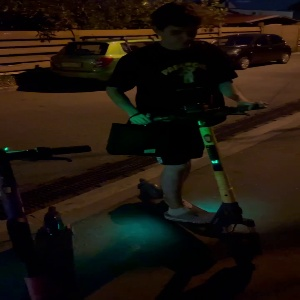human on a scooter: (101, 1, 278, 269)
